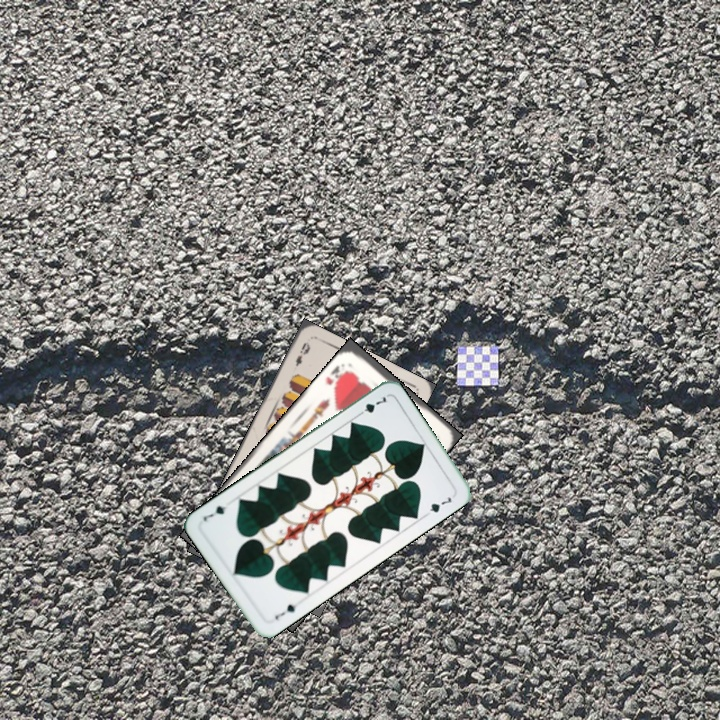E9: (291, 337, 313, 369)
G7: (353, 392, 389, 419), (271, 599, 303, 623)
HK: (322, 359, 351, 391)
